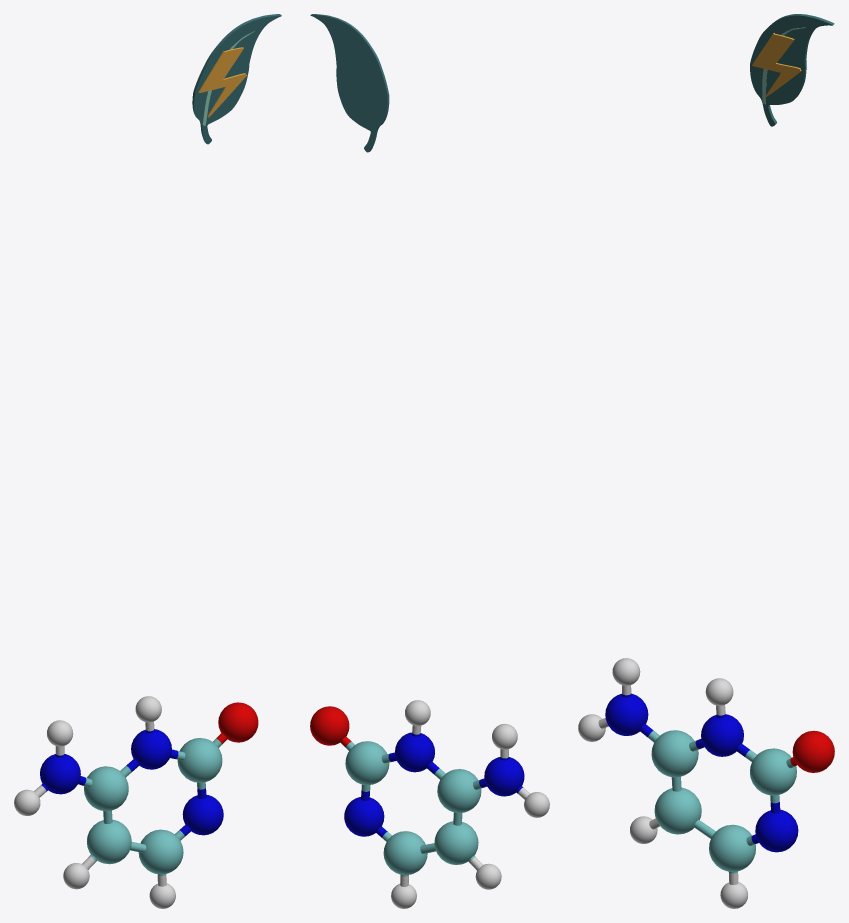
The model's file is citosina.glb.
3 views of the same model, side by side, from view 1: azimuth 30°, elevation 25°; view 2: azimuth 150°, elevation 25°; view 3: azimuth 330°, elevation 25° (orthographic). The views are drawn at different scales.
Visible parts, largest first — view 1: cytosine, path182, path186; view 2: cytosine, path182; view 3: cytosine, path182, path186.
Part boxes in pixels (x1,y1,x2,y2): cytosine: [14, 696, 258, 908]; path182: [192, 14, 281, 144]; path186: [198, 47, 246, 117]; cytosine: [310, 700, 549, 908]; path182: [310, 14, 389, 152]; cytosine: [578, 658, 834, 908]; path182: [750, 14, 834, 126]; path186: [752, 33, 801, 97].
Size of the model in its own units: 1.8 by 5.96 by 0.2964.
